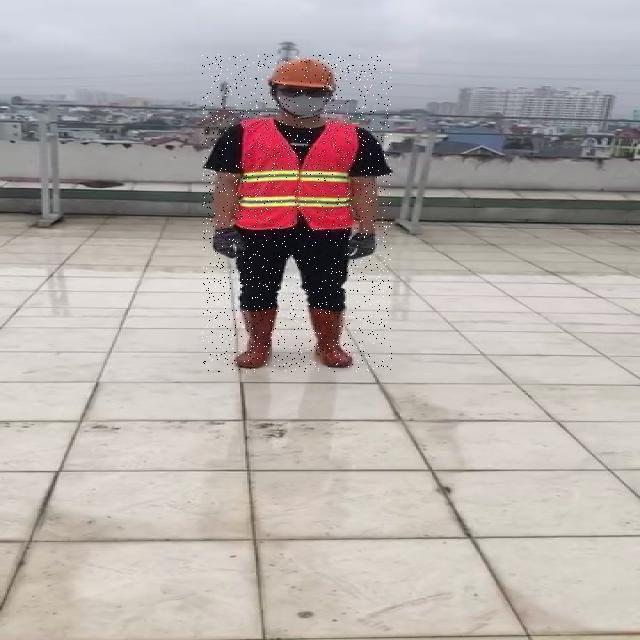helmet: (268, 56, 343, 90)
safety_vest: (231, 119, 361, 232)
